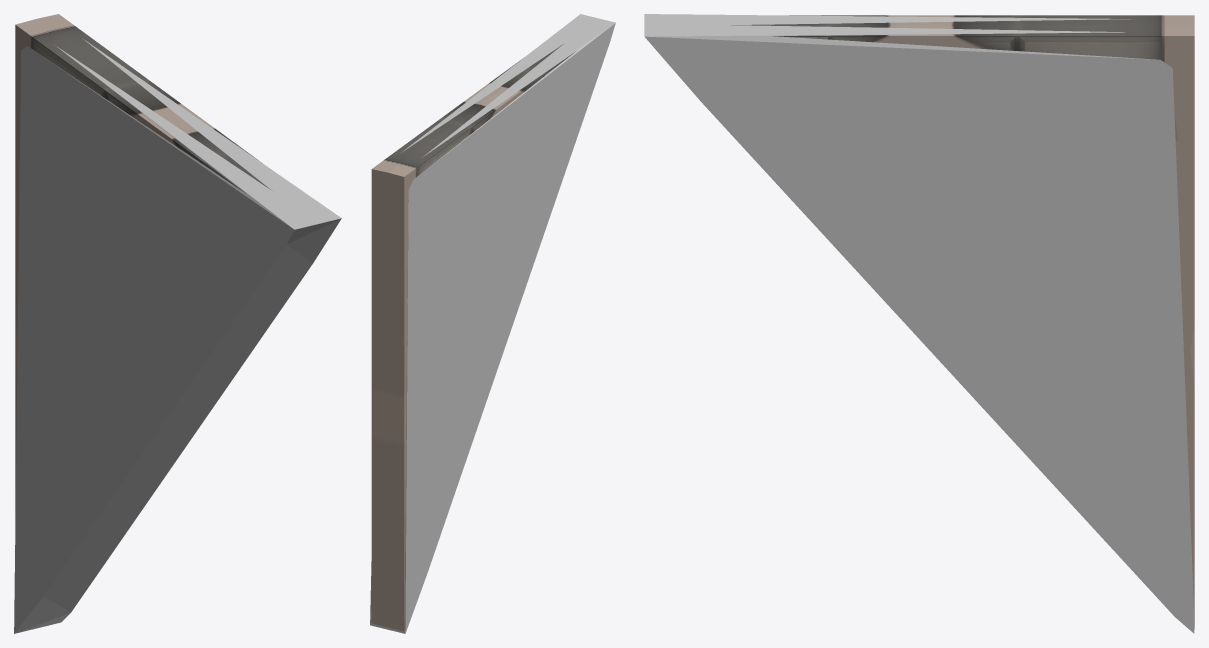
File: SM_Bld_Wall_End_Straight_Inverted_01.fbx
3 renders of one model, left to right at view 1: azimuth 30°, elevation 25°; view 2: azimuth 150°, elevation 25°; view 3: azimuth 270°, elevation 25°, orthographic. The views are drawn at different scales.
Parts seen in each view (by area): view 1: SM_Bld_Wall_End_Straight_Inverted_01_ConvexHulls, SM_Bld_Wall_End_Straight_Inverted_01; view 2: SM_Bld_Wall_End_Straight_Inverted_01_ConvexHulls, SM_Bld_Wall_End_Straight_Inverted_01; view 3: SM_Bld_Wall_End_Straight_Inverted_01_ConvexHulls, SM_Bld_Wall_End_Straight_Inverted_01.
Part boxes in pixels (x1=…): SM_Bld_Wall_End_Straight_Inverted_01_ConvexHulls: x1=14, y1=39, x2=341, y2=633; SM_Bld_Wall_End_Straight_Inverted_01: x1=15, y1=14, x2=271, y2=516; SM_Bld_Wall_End_Straight_Inverted_01_ConvexHulls: x1=370, y1=14, x2=615, y2=633; SM_Bld_Wall_End_Straight_Inverted_01: x1=371, y1=44, x2=575, y2=631; SM_Bld_Wall_End_Straight_Inverted_01_ConvexHulls: x1=644, y1=14, x2=1194, y2=633; SM_Bld_Wall_End_Straight_Inverted_01: x1=731, y1=15, x2=1194, y2=629.
Size of the model in its own units: 24.48 by 252 by 302.
Materials: 2 (1 with a texture image).
